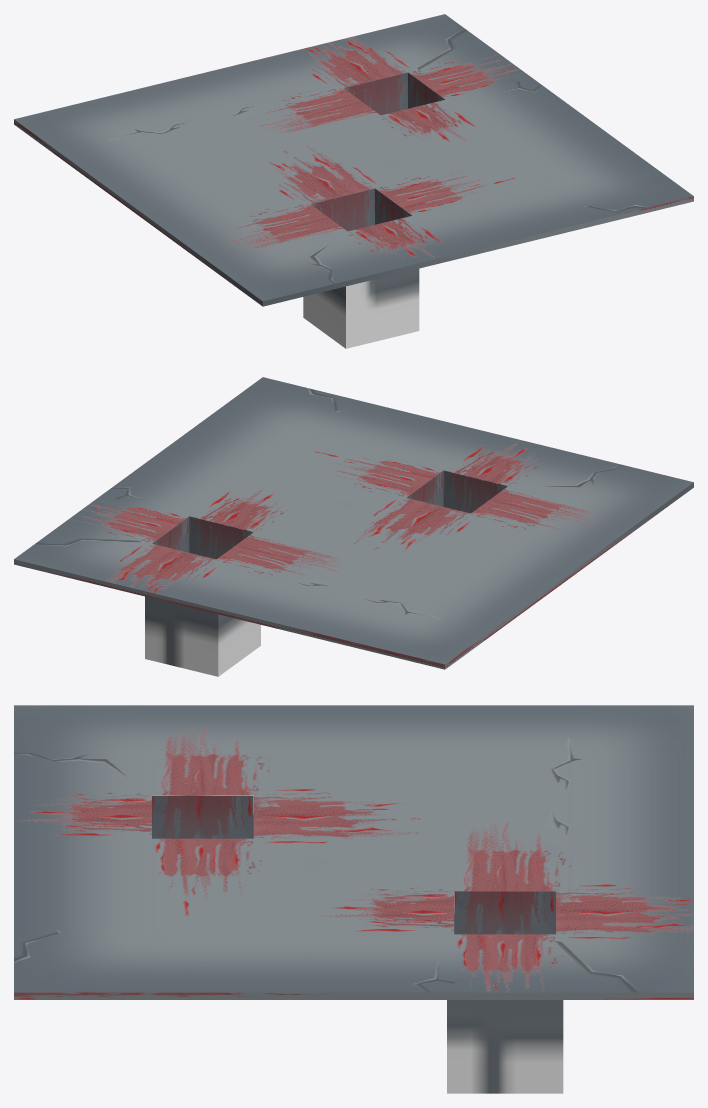
The model's file is 9x9 2 rupe.fbx.
The picture shows the model from 3 angles, top to bottom: view 1: azimuth 30°, elevation 25°; view 2: azimuth 150°, elevation 25°; view 3: azimuth 270°, elevation 25°; orthographic projection. The views are drawn at different scales.
Visible parts, largest first — view 1: Cube.003, Cube_008.007, Cube_008.006; view 2: Cube.003, Cube_008.006, Cube_008.007; view 3: Cube.003, Cube_008.006, Cube_008.007.
Part boxes in pixels (x1=…): Cube.003: x1=14, y1=14, x2=693, y2=306; Cube_008.007: x1=303, y1=188, x2=419, y2=348; Cube_008.006: x1=344, y1=72, x2=444, y2=115; Cube.003: x1=14, y1=377, x2=693, y2=669; Cube_008.006: x1=145, y1=516, x2=260, y2=676; Cube_008.007: x1=406, y1=470, x2=507, y2=513; Cube.003: x1=14, y1=705, x2=693, y2=999; Cube_008.006: x1=447, y1=891, x2=563, y2=1093; Cube_008.007: x1=152, y1=795, x2=253, y2=838.
Bounding box in the file's own units: 900 × 228 × 900.
Materials: 2 (2 with a texture image).
